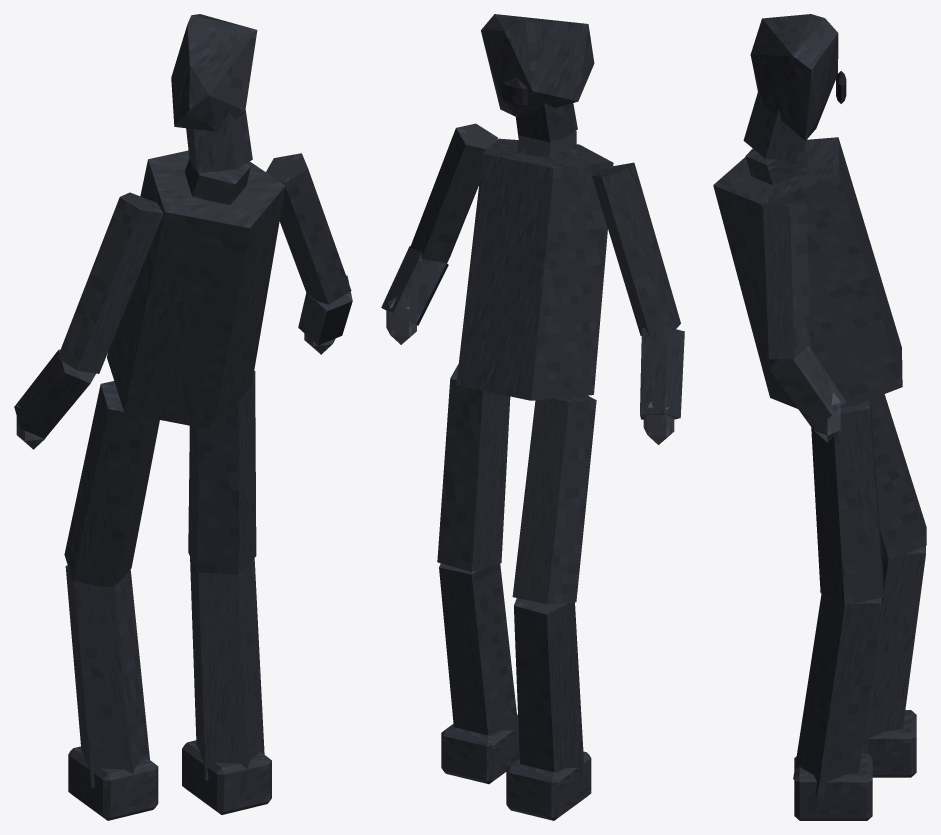
Rendered from f_glassedbody_14.glb.
3 views of the same model, side by side, from view 1: azimuth 30°, elevation 25°; view 2: azimuth 150°, elevation 25°; view 3: azimuth 270°, elevation 25° (orthographic). The views are drawn at different scales.
Visible parts, largest first — view 1: block_angular-torso-1, block_faceted-glass-leg-1 (×2), block_faceted-glass-leg-2 (×2), block_angular-glass-arm-1 (×2), block_solid-glass-foot (×2), block_angular-black-glass-head, block_angular-glass-arm-2 (×2), block_vitrified-neck-2, block_vitrified-neck-1; view 2: block_angular-torso-1, block_faceted-glass-leg-2 (×2), block_faceted-glass-leg-1 (×2), block_angular-glass-arm-1 (×2), block_angular-black-glass-head, block_solid-glass-foot (×2), block_angular-glass-arm-2 (×2), block_vitrified-neck-2, block_glass-hand (×2), block_vitrified-neck-1, block_dark-frozen-scream-recess; view 3: block_angular-torso-1, block_faceted-glass-leg-1 (×2), block_faceted-glass-leg-2 (×2), block_angular-black-glass-head, block_angular-glass-arm-1, block_solid-glass-foot (×2), block_angular-glass-arm-2, block_vitrified-neck-2, block_vitrified-neck-1, block_glass-hand.
Boxes of the visible parts, x1,y1,x2,y2 form: block_angular-torso-1: (107, 150, 285, 430); block_faceted-glass-leg-1 (×2): (65, 557, 264, 787); block_faceted-glass-leg-2 (×2): (64, 371, 256, 587); block_angular-glass-arm-1 (×2): (57, 153, 351, 373); block_solid-glass-foot (×2): (68, 740, 271, 820); block_angular-black-glass-head: (171, 14, 257, 131); block_angular-glass-arm-2 (×2): (14, 275, 352, 438); block_vitrified-neck-2: (186, 110, 252, 172); block_vitrified-neck-1: (184, 159, 250, 204); block_angular-torso-1: (456, 138, 613, 400); block_faceted-glass-leg-2 (×2): (437, 364, 596, 604); block_faceted-glass-leg-1 (×2): (439, 563, 584, 780); block_angular-glass-arm-1 (×2): (410, 123, 680, 337); block_angular-black-glass-head: (481, 14, 594, 117); block_solid-glass-foot (×2): (441, 714, 591, 820); block_angular-glass-arm-2 (×2): (381, 246, 684, 419); block_vitrified-neck-2: (515, 103, 577, 142); block_glass-hand (×2): (386, 297, 674, 444); block_vitrified-neck-1: (517, 131, 576, 157); block_dark-frozen-scream-recess: (502, 77, 527, 109); block_angular-torso-1: (713, 137, 902, 408); block_faceted-glass-leg-1 (×2): (793, 545, 925, 796); block_faceted-glass-leg-2 (×2): (811, 394, 926, 604); block_angular-black-glass-head: (750, 14, 838, 140); block_angular-glass-arm-1: (763, 201, 810, 359); block_solid-glass-foot (×2): (794, 710, 916, 820); block_angular-glass-arm-2: (771, 345, 845, 427); block_vitrified-neck-2: (743, 90, 805, 161); block_vitrified-neck-1: (745, 147, 808, 184); block_glass-hand: (814, 393, 840, 442).
Bounding box in the file's own units: 0.7221 × 1.73 × 0.4334.
Materials: 1 (1 with a texture image).
